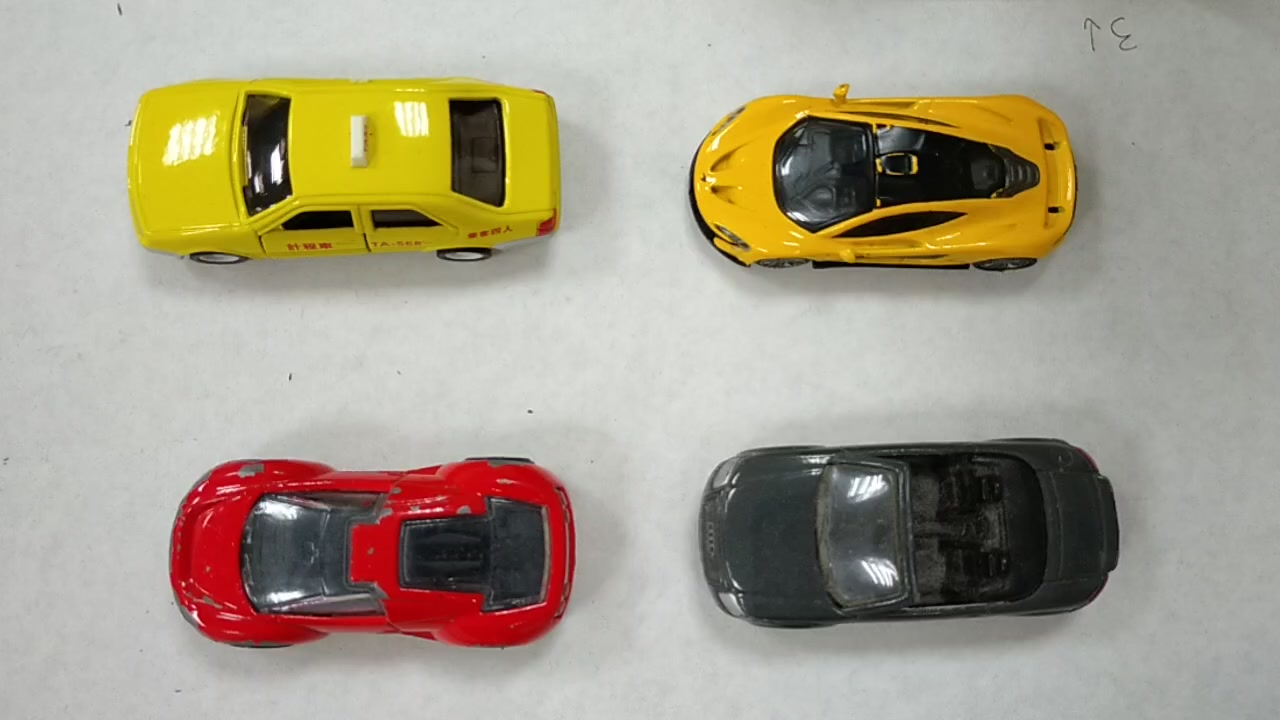car: (167, 455, 601, 640), (696, 456, 1144, 624), (684, 96, 1116, 270), (128, 87, 571, 252)
